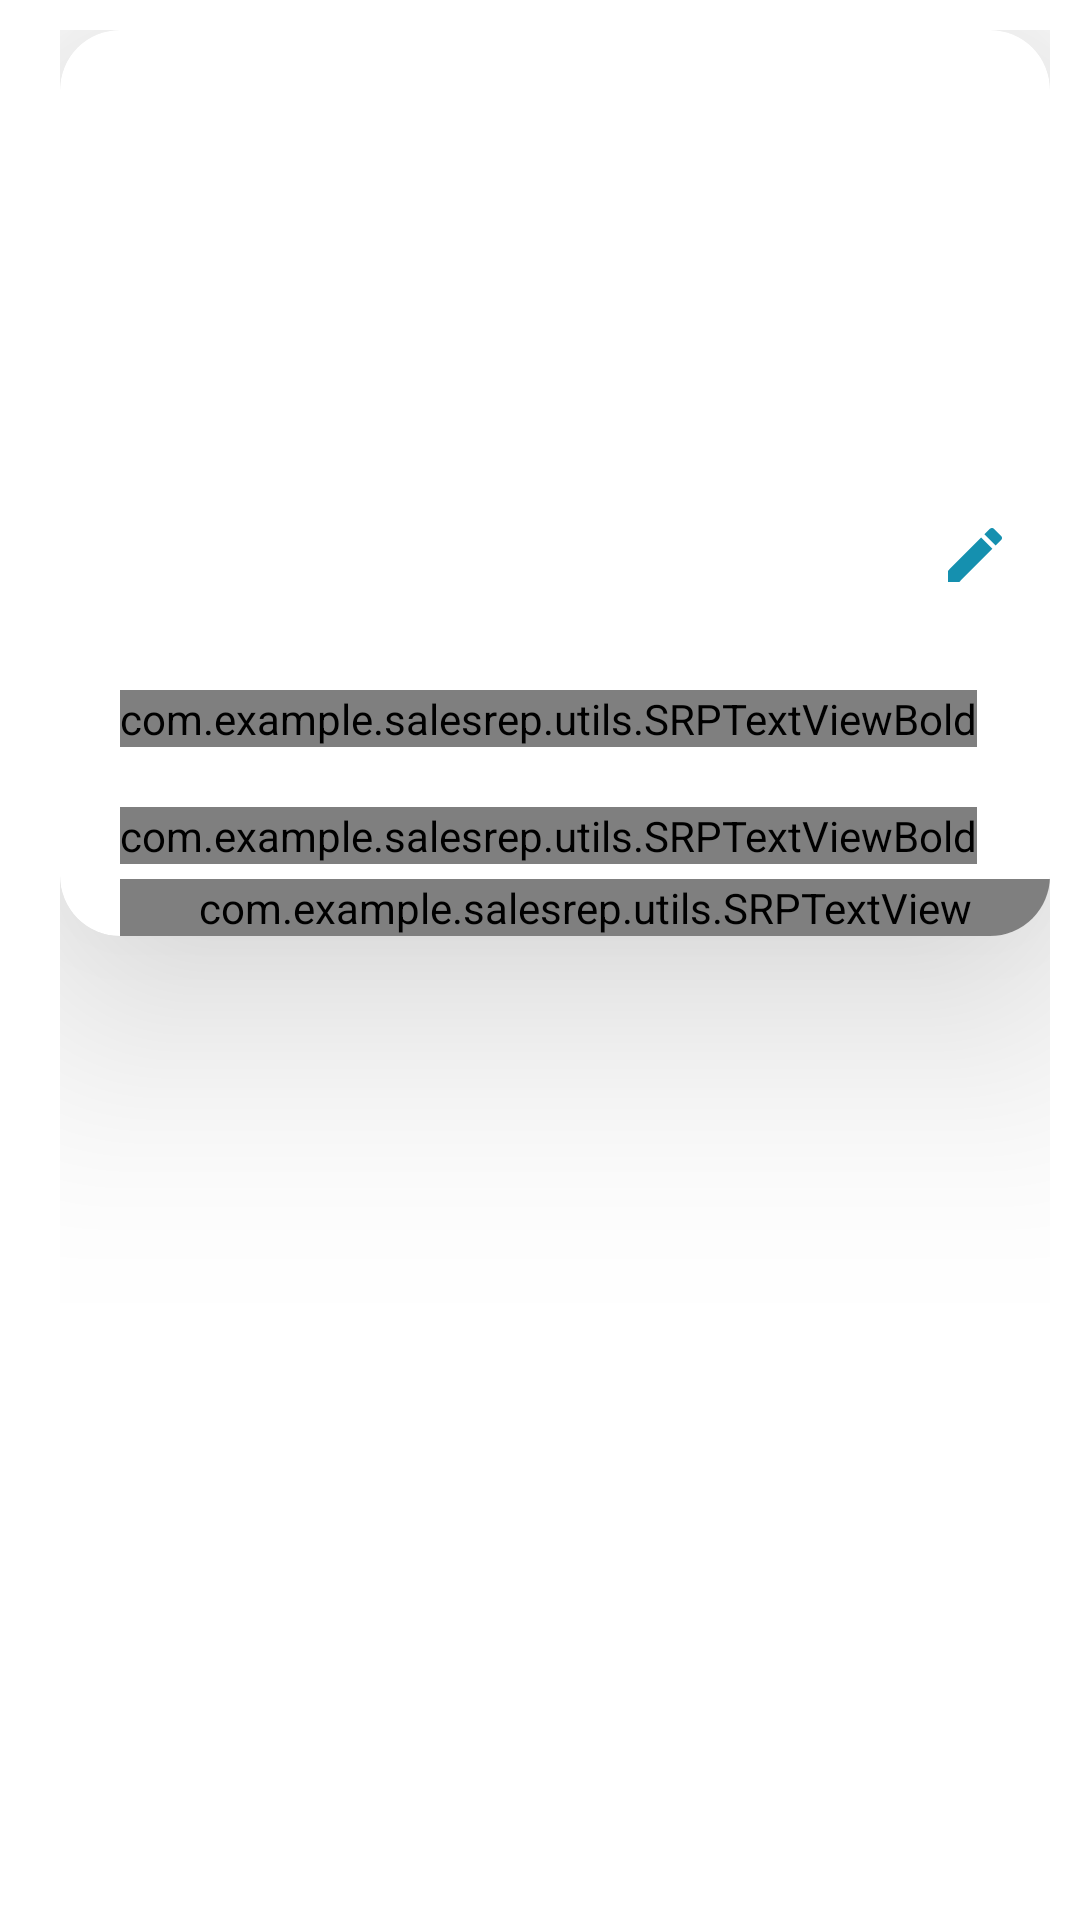

Named icons in this screenshot (1080px×1920px) and their bounding boxes, (x1, y1, x2, y2):
edit: (948, 528, 1002, 582)
